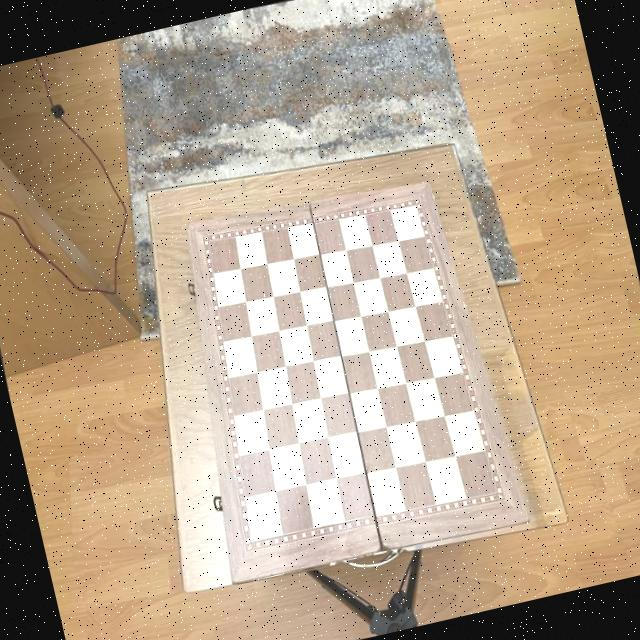corners: (514, 510, 546, 536), (416, 171, 438, 198), (178, 215, 202, 238), (220, 572, 246, 593)
